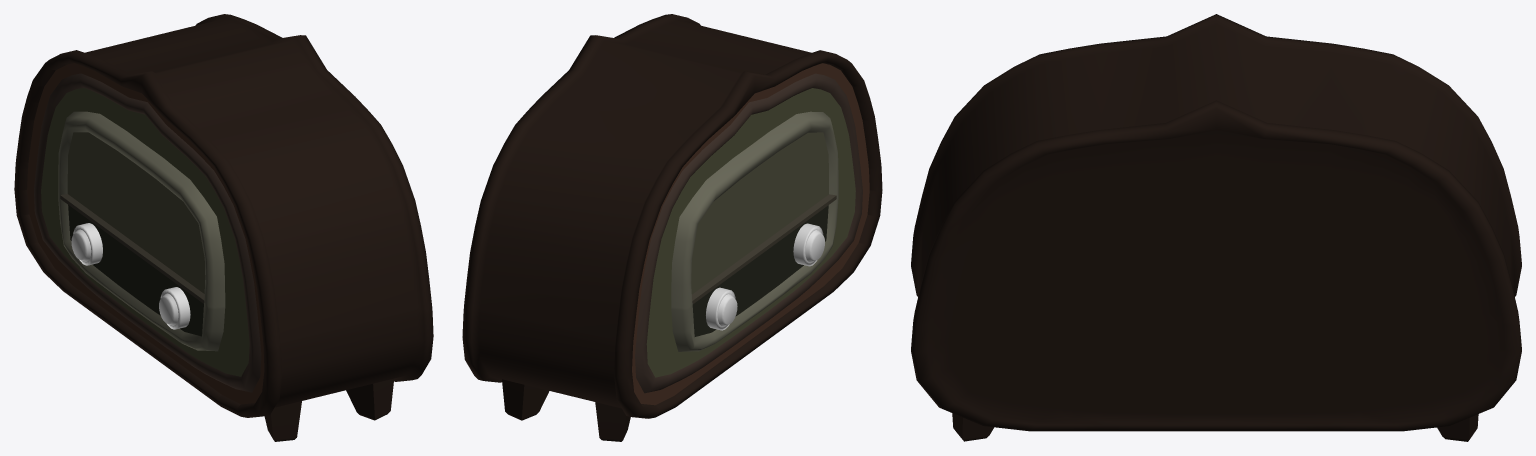
Rendered from OldRadio.fbx.
3 renders of one model, left to right at view 1: azimuth 30°, elevation 25°; view 2: azimuth 150°, elevation 25°; view 3: azimuth 270°, elevation 25°, orthographic. The views are drawn at different scales.
Parts seen in each view (by area): view 1: Radio, DialL, DialR; view 2: Radio, DialR, DialL; view 3: Radio.
Part boxes in pixels (x1,y1,x2,y2): Radio: [14, 14, 433, 441]; DialL: [71, 223, 102, 265]; DialR: [159, 287, 190, 329]; Radio: [462, 14, 882, 441]; DialR: [793, 223, 824, 266]; DialL: [706, 287, 737, 330]; Radio: [911, 14, 1521, 441].
Size of the model in its own units: 6.87 by 10.56 by 16.72.
